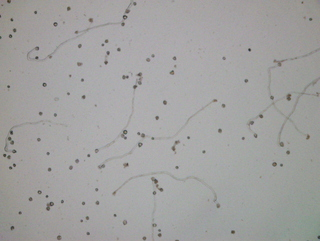germinated: (274, 132, 287, 147), (210, 193, 222, 209), (26, 41, 40, 54), (92, 144, 109, 154), (248, 127, 259, 139), (5, 145, 17, 154), (148, 176, 157, 188), (151, 190, 158, 202), (140, 131, 150, 139), (102, 56, 110, 65)
nongerminated: (120, 218, 130, 228), (167, 67, 176, 77), (160, 97, 169, 107), (63, 4, 74, 12), (245, 45, 254, 54), (242, 75, 251, 84), (216, 126, 225, 135), (228, 227, 237, 236), (51, 20, 60, 29), (75, 60, 84, 69), (50, 109, 59, 118), (34, 135, 43, 144), (72, 156, 81, 165), (8, 223, 17, 232), (113, 45, 123, 53), (64, 89, 72, 99), (93, 197, 101, 207), (54, 232, 64, 240), (170, 54, 178, 63), (148, 51, 157, 59), (220, 55, 229, 63), (154, 112, 162, 121), (79, 93, 88, 101), (78, 74, 86, 83), (86, 15, 94, 24), (7, 14, 16, 22), (76, 41, 84, 50), (134, 69, 143, 77), (40, 80, 48, 89), (44, 150, 52, 159), (44, 165, 53, 173), (79, 199, 87, 208), (83, 213, 92, 221), (58, 197, 66, 206), (35, 188, 44, 196), (15, 208, 24, 216), (67, 164, 76, 172), (120, 13, 128, 21), (219, 102, 227, 110), (173, 163, 181, 171), (1, 150, 9, 158), (77, 217, 85, 225), (67, 71, 74, 80), (43, 205, 52, 212), (268, 92, 275, 100), (271, 160, 278, 168), (284, 148, 292, 155), (119, 74, 127, 81), (102, 37, 110, 44), (104, 48, 111, 56), (31, 9, 39, 16), (10, 25, 17, 33), (36, 109, 44, 116), (121, 128, 129, 135), (85, 152, 93, 159), (141, 234, 149, 241), (111, 211, 119, 218), (118, 20, 126, 27), (136, 141, 145, 147), (8, 127, 14, 136), (200, 148, 207, 155), (286, 96, 293, 103), (307, 14, 314, 21), (239, 134, 246, 141), (184, 134, 191, 141), (4, 83, 11, 90), (11, 161, 18, 168), (156, 226, 163, 233), (84, 230, 91, 237), (93, 186, 101, 192), (155, 232, 163, 238), (26, 194, 32, 202), (285, 92, 292, 98), (6, 32, 13, 38), (43, 193, 50, 199), (257, 113, 265, 118), (9, 139, 15, 145), (6, 154, 12, 160), (48, 200, 54, 206), (7, 164, 13, 170), (249, 120, 254, 125)
